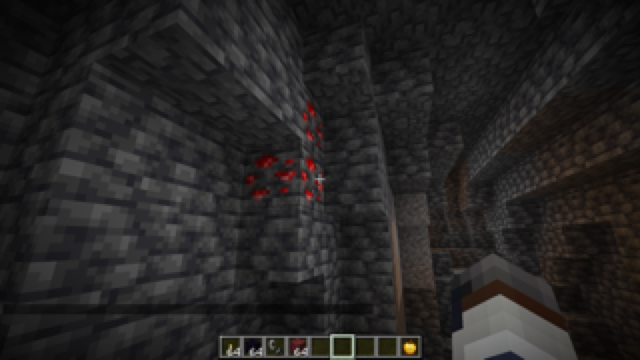redstone: (240, 95, 330, 210)
